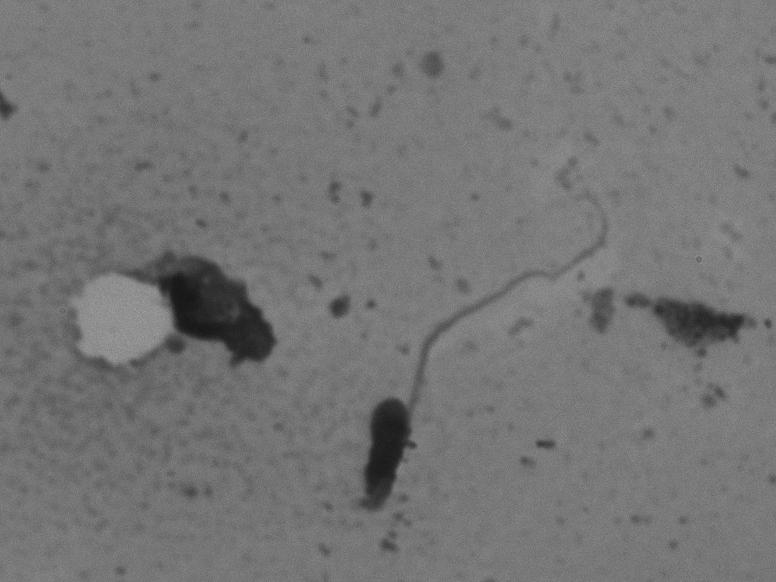Abnormal: (319, 134, 615, 538)
